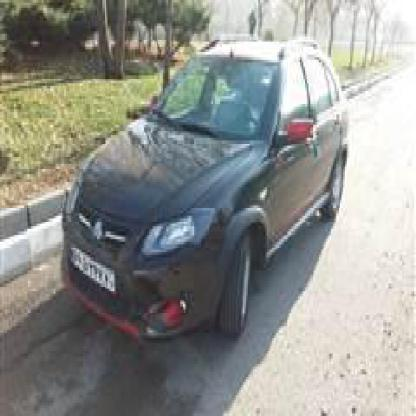car: (49, 32, 354, 374)
